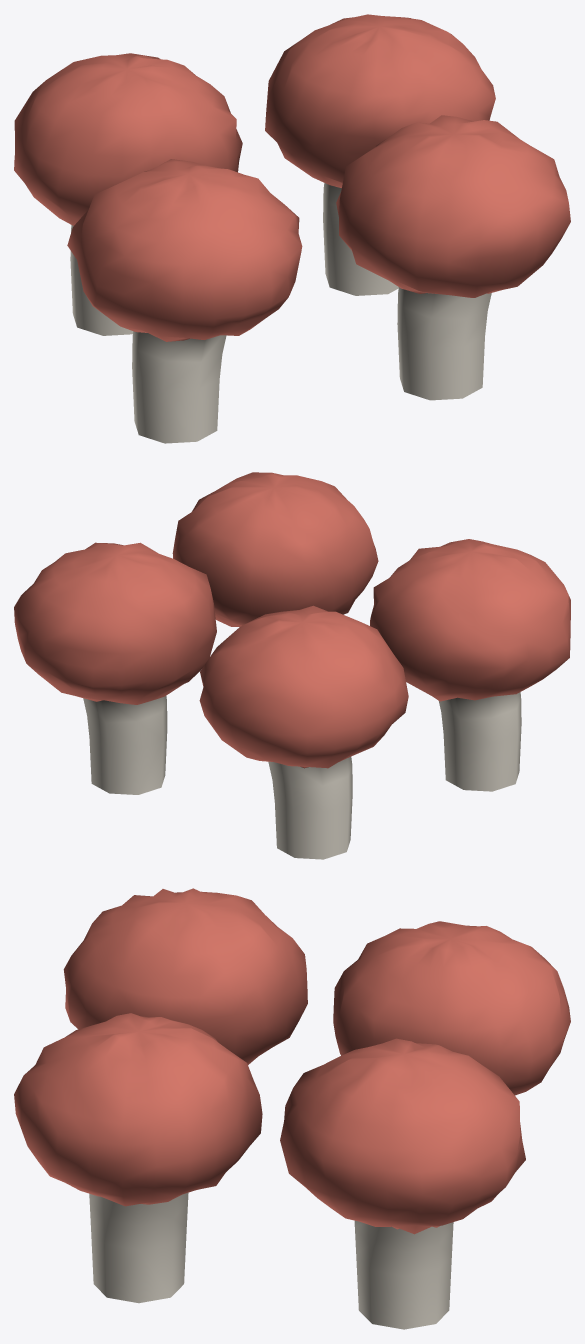
Rendered from prep_florets.glb.
The picture shows the model from 3 angles, top to bottom: view 1: azimuth 30°, elevation 25°; view 2: azimuth 150°, elevation 25°; view 3: azimuth 270°, elevation 25°; orthographic projection. The views are drawn at different scales.
Parts seen in each view (by area): view 1: PART; view 2: PART; view 3: PART.
Boxes of the visible parts, box(x1,y1,x2,y2) form: PART: box(14, 14, 570, 443); PART: box(14, 472, 570, 859); PART: box(14, 888, 570, 1329).
Size of the model in its own units: 0.0784 by 0.0372 by 0.0714.
